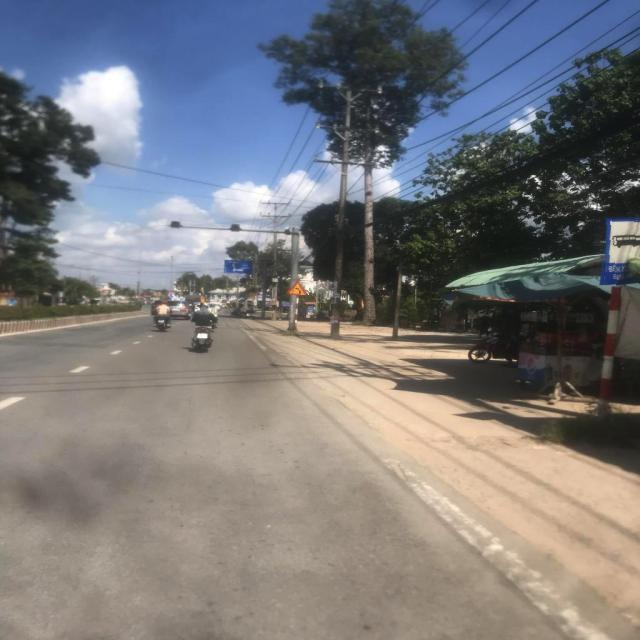cam_xe_di_nguoc_chieu: (168, 291, 174, 295)
cho_ngoat_nguy_hiem_ben_trai: (286, 279, 310, 295)
huong_phai_di_vuot_chuong_ngai_vat_phai: (168, 295, 174, 299)
khac: (600, 217, 640, 286), (225, 260, 252, 275)
